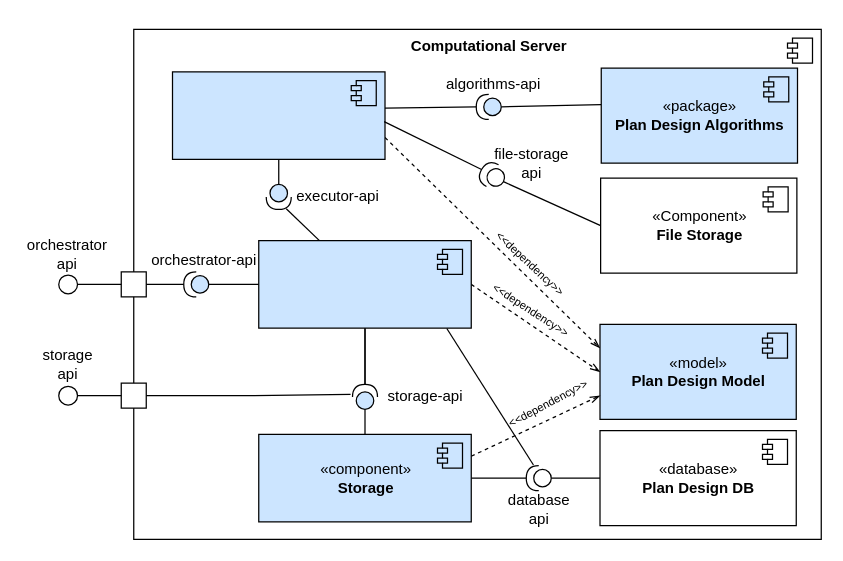
Some shapes in this 843 by 561 pixel diagram are drawn without their labels. The shapes that lost their labels are listed below. From the top down, each one's centre as x and y in pixels, then its label:
At (278,115): "«component» Executor".
At (364,283): "«component» Orchestrator".
